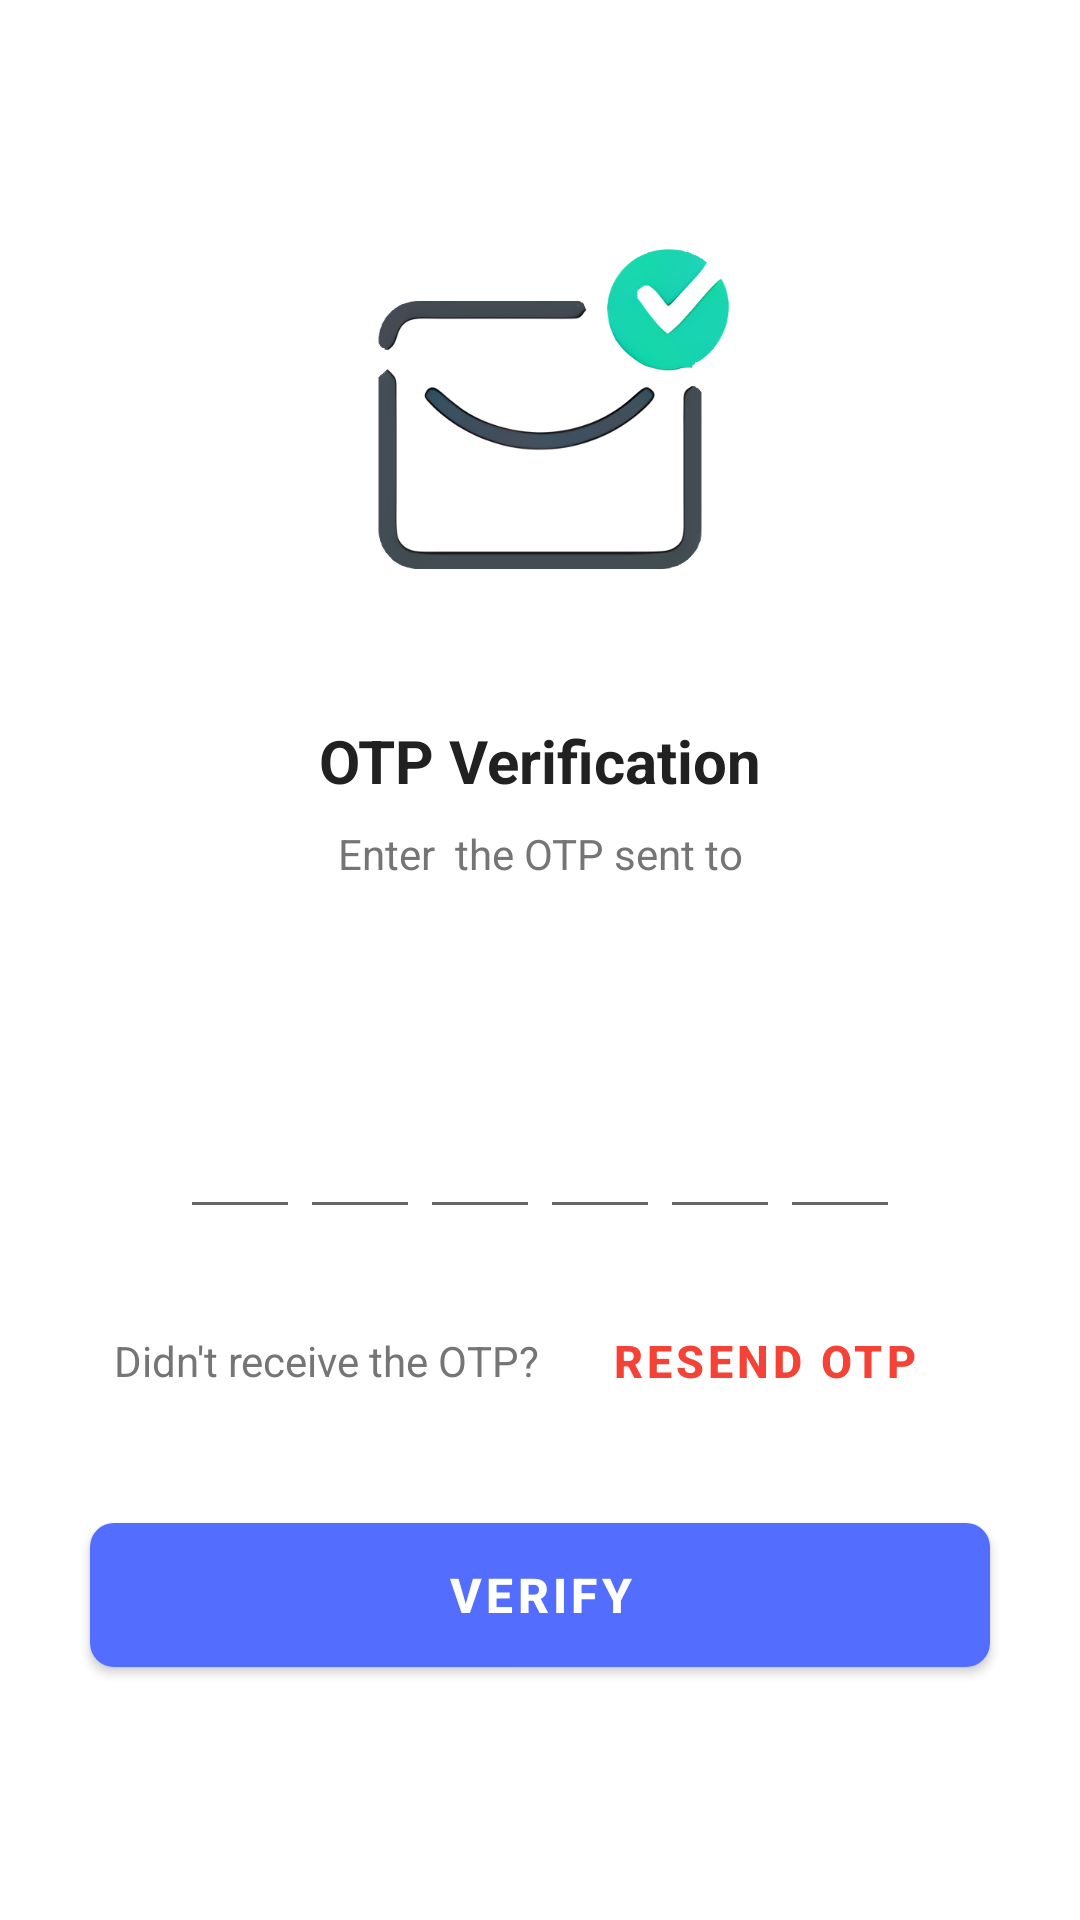

Icon bounding boxes for this 1080×1920 phone screenshot, format bbox=[x1, y1, x2, y2]:
received: bbox=[378, 249, 729, 569]
